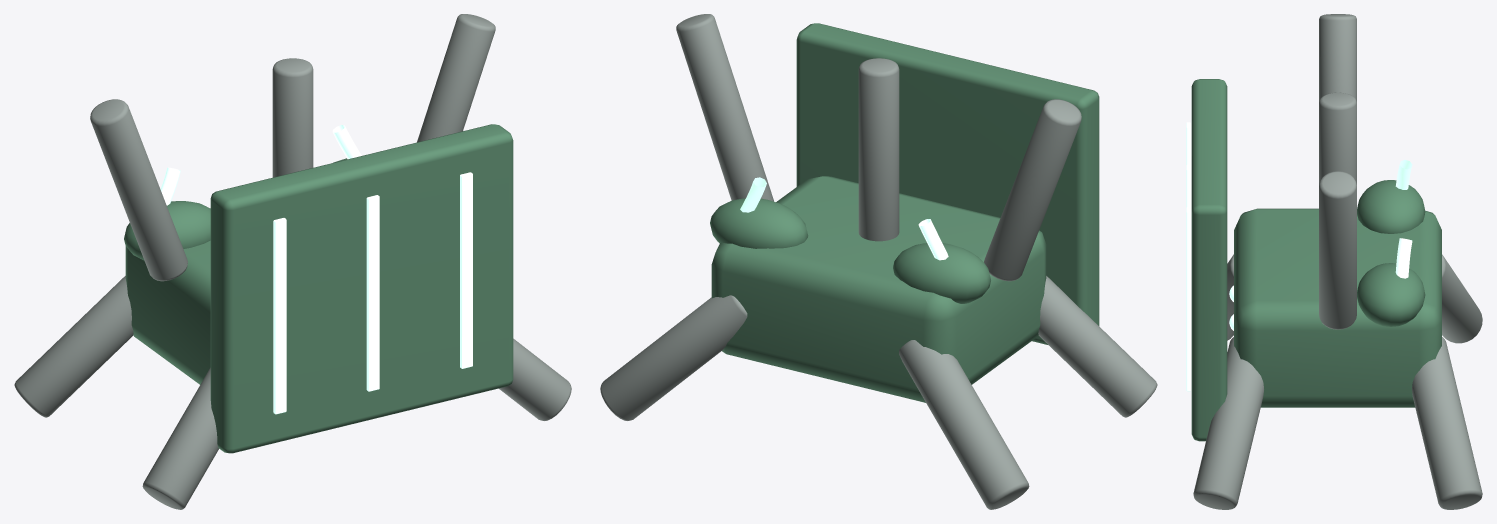
File: card_p0_boss.glb
3 renders of one model, left to right at view 1: azimuth 30°, elevation 25°; view 2: azimuth 150°, elevation 25°; view 3: azimuth 270°, elevation 25°, orthographic. The views are drawn at different scales.
Parts seen in each view (by area): view 1: card_p0_boss; view 2: card_p0_boss; view 3: card_p0_boss.
Boxes of the visible parts, x1,y1,x2,y2 form: card_p0_boss: [14, 14, 571, 509]; card_p0_boss: [600, 14, 1157, 509]; card_p0_boss: [1186, 14, 1482, 509].
Size of the model in its own units: 2.4 by 1.94 by 1.57.
